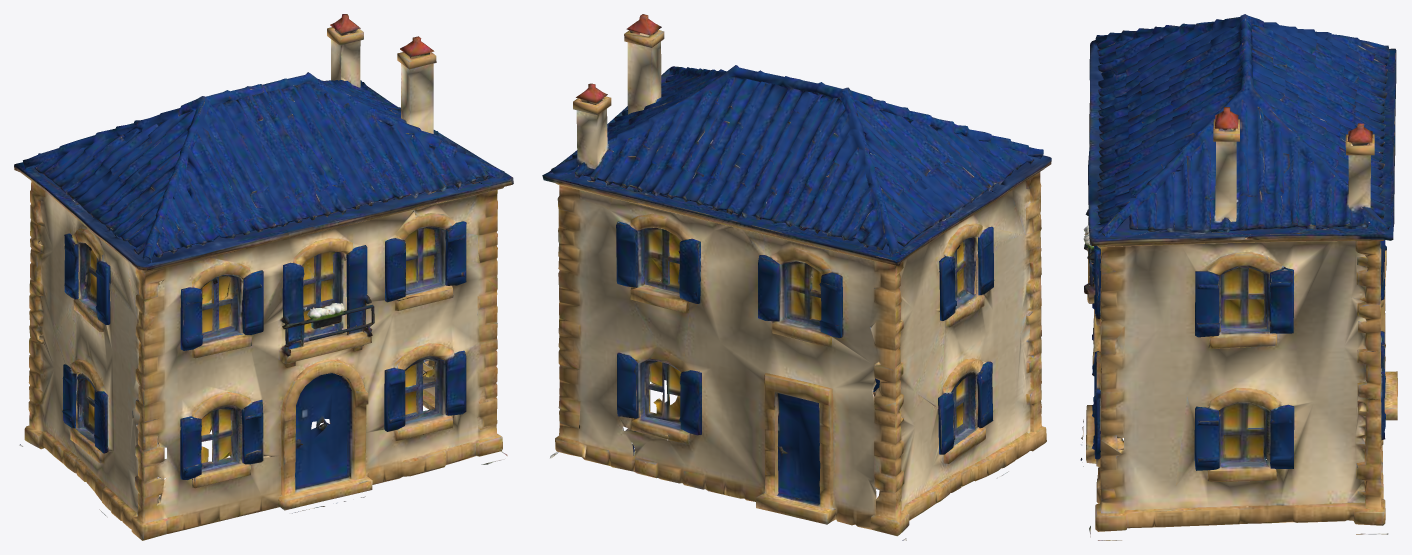
3 views of the same model, side by side, from view 1: azimuth 30°, elevation 25°; view 2: azimuth 150°, elevation 25°; view 3: azimuth 270°, elevation 25° (orthographic). The views are drawn at different scales.
Visible parts, largest first — view 1: harbor__villa_2__neural_lod; view 2: harbor__villa_2__neural_lod; view 3: harbor__villa_2__neural_lod.
Part boxes in pixels (left/top/right/bottom): harbor__villa_2__neural_lod: left=14, top=14, right=513, bottom=540; harbor__villa_2__neural_lod: left=542, top=14, right=1051, bottom=540; harbor__villa_2__neural_lod: left=1080, top=14, right=1397, bottom=540.
Bounding box in the file's own units: 0.8953 × 0.8734 × 0.6038.
Materials: 1 (1 with a texture image).
